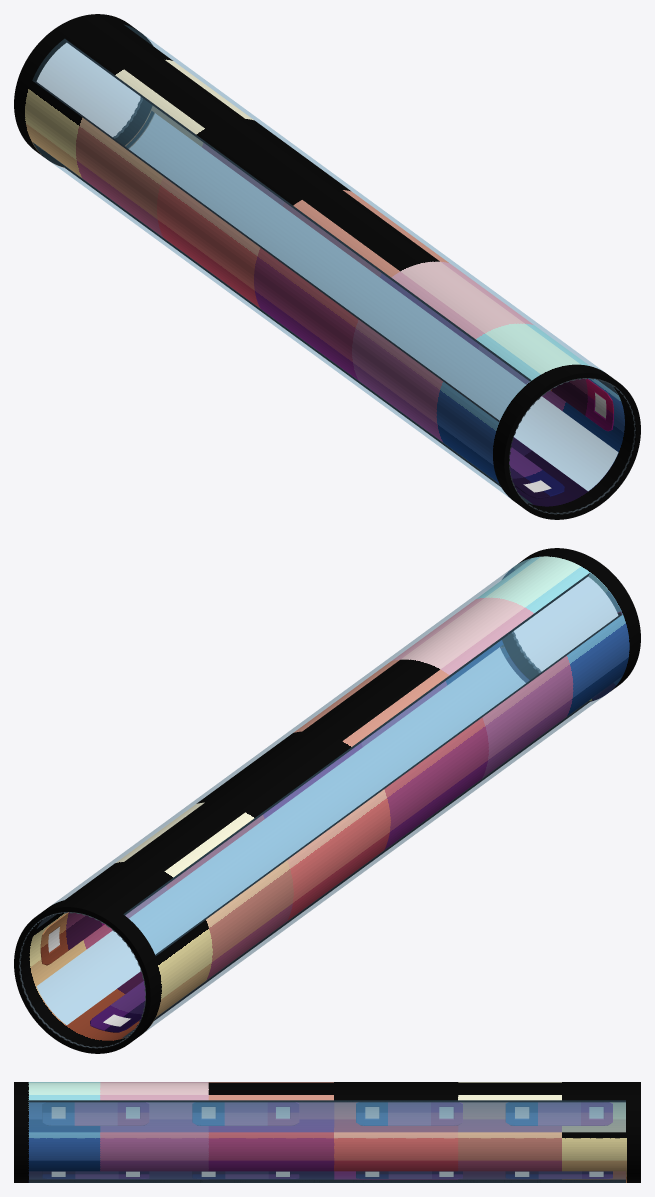
Rendered from LD50-Pipe-200m-01.glb.
3 views of the same model, one above another, from view 1: azimuth 30°, elevation 25°; view 2: azimuth 150°, elevation 25°; view 3: azimuth 270°, elevation 25° (orthographic). The views are drawn at different scales.
Parts seen in each view (by area): view 1: Pipe-200m-01, Pipe-200m-01-Props-01, Pipe-200m-01-Joint; view 2: Pipe-200m-01, Pipe-200m-01-Props-01, Pipe-200m-01-Joint; view 3: Pipe-200m-01, Pipe-200m-01-Props-01.
Boxes of the visible parts, x1=… form: Pipe-200m-01: x1=14, y1=14, x2=640, y2=519; Pipe-200m-01-Props-01: x1=509, y1=378, x2=613, y2=498; Pipe-200m-01-Joint: x1=34, y1=97, x2=635, y2=514; Pipe-200m-01: x1=14, y1=548, x2=640, y2=1053; Pipe-200m-01-Props-01: x1=40, y1=912, x2=145, y2=1032; Pipe-200m-01-Joint: x1=19, y1=631, x2=541, y2=1048; Pipe-200m-01: x1=14, y1=1082, x2=640, y2=1182; Pipe-200m-01-Props-01: x1=42, y1=1102, x2=612, y2=1178.
Size of the model in its own units: 32.2 by 32.2 by 200.
4 materials, 3 textured.
